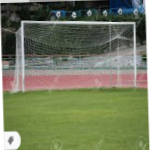goals: (12, 18, 138, 93)
